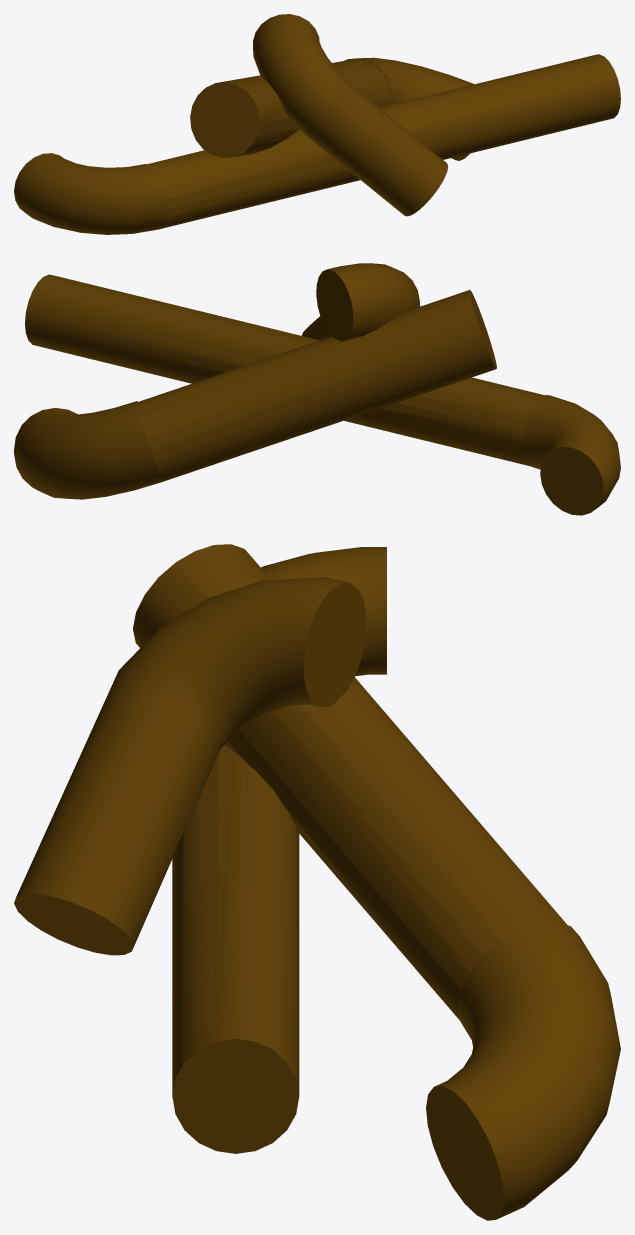
The model's file is 48_pipe_pile1.fbx.
3 views of the same model, one above another, from view 1: azimuth 30°, elevation 25°; view 2: azimuth 150°, elevation 25°; view 3: azimuth 270°, elevation 25° (orthographic). The views are drawn at different scales.
Parts seen in each view (by area): view 1: pCylinder191; view 2: pCylinder191; view 3: pCylinder191.
Part boxes in pixels (x1,y1,x2,y2): pCylinder191: [14, 14, 620, 234]; pCylinder191: [14, 263, 620, 515]; pCylinder191: [14, 544, 620, 1220].
Bounding box in the file's own units: 1.22 × 0.4744 × 0.6105.
